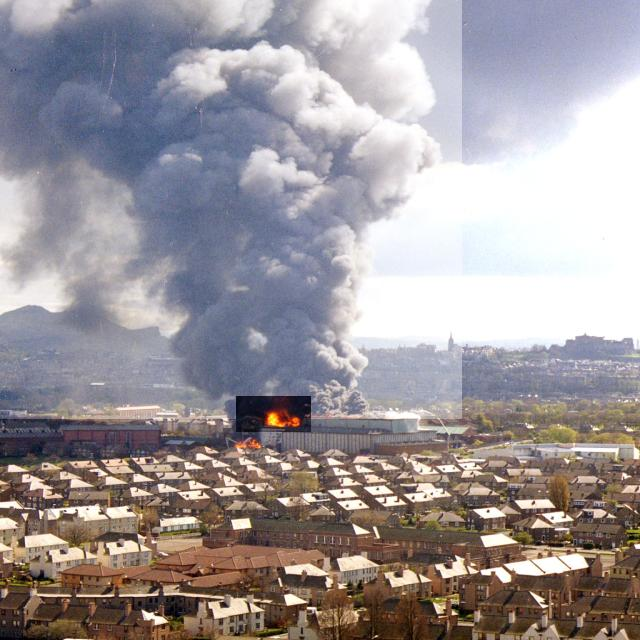Fire: (236, 396, 311, 432)
Smoke: (0, 0, 462, 419)
